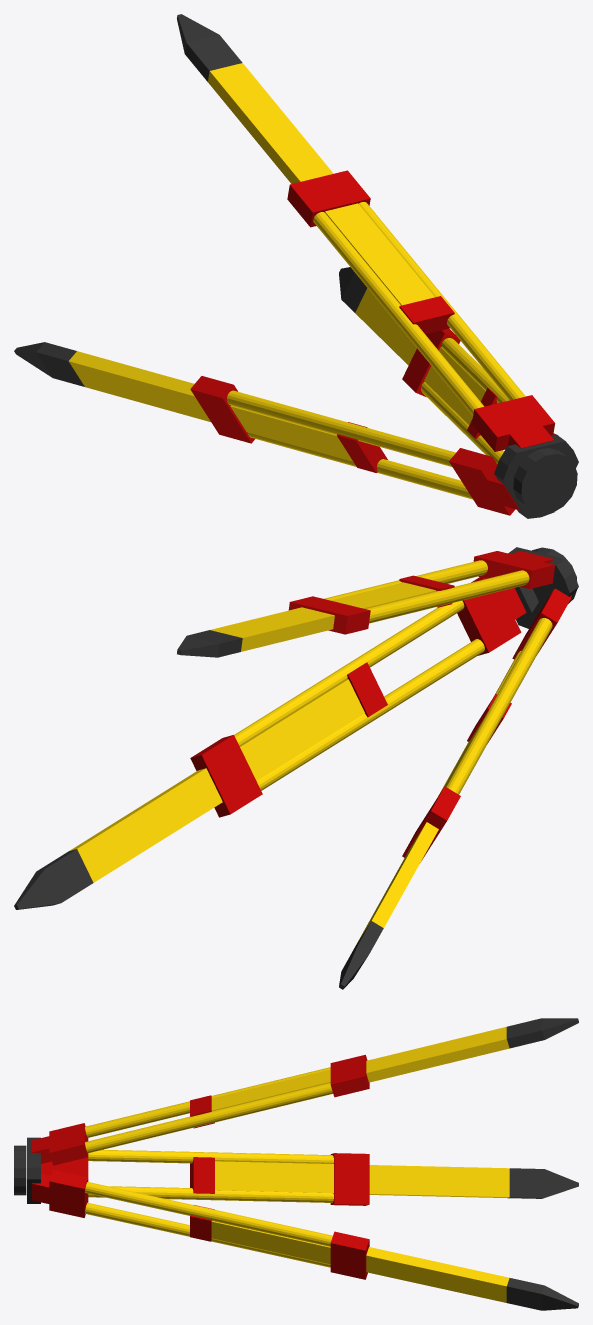
The model's file is tripod.obj.
The picture shows the model from 3 angles, top to bottom: view 1: azimuth 30°, elevation 25°; view 2: azimuth 150°, elevation 25°; view 3: azimuth 270°, elevation 25°; orthographic projection. The views are drawn at different scales.
Parts seen in each view (by area): view 1: Cube.003_Cube.001, Cube.002, Cube.004_Cube.001, Cylinder.001_Cylinder, Cylinder.002_Cylinder, Cube.005_Cube.002, Cylinder_Cylinder.005, Cube.006_Cube.001, Tripod_Foot.001_Cube.003, Cylinder.003_Cylinder, Tripod_Foot.002_Cube.003, Cube.007_Cube.002 (+3 smaller); view 2: Cube.006_Cube.001, Cube.007_Cube.002, Cylinder.003_Cylinder, Cube.003_Cube.001, Cube.002, Cylinder.001_Cylinder, Cylinder.002_Cylinder, Tripod_Foot.003_Cube.003, Cube.005_Cube.002, Cube.004_Cube.001, Tripod_Foot.001_Cube.003, Tripod_Foot.002_Cube.003 (+2 smaller); view 3: Cube.004_Cube.001, Cube.006_Cube.001, Cube.003_Cube.001, Cylinder.003_Cylinder, Cylinder.001_Cylinder, Cylinder.002_Cylinder, Cube.007_Cube.002, Cube.005_Cube.002, Cube.002, Tripod_Foot.002_Cube.003, Tripod_Foot.003_Cube.003, Tripod_Foot.001_Cube.003 (+1 smaller).
Boxes of the visible parts, left/top/right/bottom form: Cube.003_Cube.001: left=208, top=63, right=434, bottom=305; Cube.002: left=287, top=170, right=555, bottom=451; Cube.004_Cube.001: left=68, top=351, right=353, bottom=461; Cylinder.001_Cylinder: left=313, top=202, right=525, bottom=415; Cylinder.002_Cylinder: left=227, top=390, right=472, bottom=499; Cube.005_Cube.002: left=190, top=376, right=520, bottom=515; Cylinder_Cylinder.005: left=513, top=448, right=577, bottom=514; Cube.006_Cube.001: left=355, top=288, right=485, bottom=424; Tripod_Foot.001_Cube.003: left=177, top=14, right=242, bottom=81; Cylinder.003_Cylinder: left=421, top=338, right=509, bottom=464; Tripod_Foot.002_Cube.003: left=14, top=342, right=84, bottom=386; Cube.007_Cube.002: left=402, top=328, right=558, bottom=438; Cube.006_Cube.001: left=69, top=679, right=364, bottom=882; Cube.007_Cube.002: left=190, top=577, right=526, bottom=817; Cylinder.003_Cylinder: left=234, top=601, right=484, bottom=790; Cube.003_Cube.001: left=210, top=582, right=436, bottom=651; Cube.002: left=288, top=551, right=555, bottom=634; Cylinder.001_Cylinder: left=323, top=560, right=529, bottom=623; Cylinder.002_Cylinder: left=438, top=618, right=552, bottom=795; Tripod_Foot.003_Cube.003: left=14, top=849, right=93, bottom=909; Cube.005_Cube.002: left=402, top=588, right=571, bottom=862; Cube.004_Cube.001: left=357, top=719, right=483, bottom=943; Tripod_Foot.001_Cube.003: left=177, top=630, right=242, bottom=657; Tripod_Foot.002_Cube.003: left=339, top=921, right=383, bottom=989; Cube.004_Cube.001: left=215, top=1161, right=509, bottom=1197; Cube.006_Cube.001: left=211, top=1221, right=509, bottom=1302; Cube.003_Cube.001: left=211, top=1027, right=509, bottom=1110; Cylinder.003_Cylinder: left=85, top=1182, right=332, bottom=1267; Cylinder.001_Cylinder: left=85, top=1067, right=333, bottom=1153; Cylinder.002_Cylinder: left=88, top=1149, right=333, bottom=1202; Cube.007_Cube.002: left=32, top=1170, right=369, bottom=1279; Cube.005_Cube.002: left=41, top=1153, right=369, bottom=1205; Cube.002: left=32, top=1054, right=369, bottom=1165; Tripod_Foot.002_Cube.003: left=507, top=1168, right=578, bottom=1198; Tripod_Foot.003_Cube.003: left=506, top=1278, right=578, bottom=1310; Tripod_Foot.001_Cube.003: left=506, top=1018, right=578, bottom=1048.
Bounding box in the file's own units: 0.8073 × 0.7154 × 1.55.
